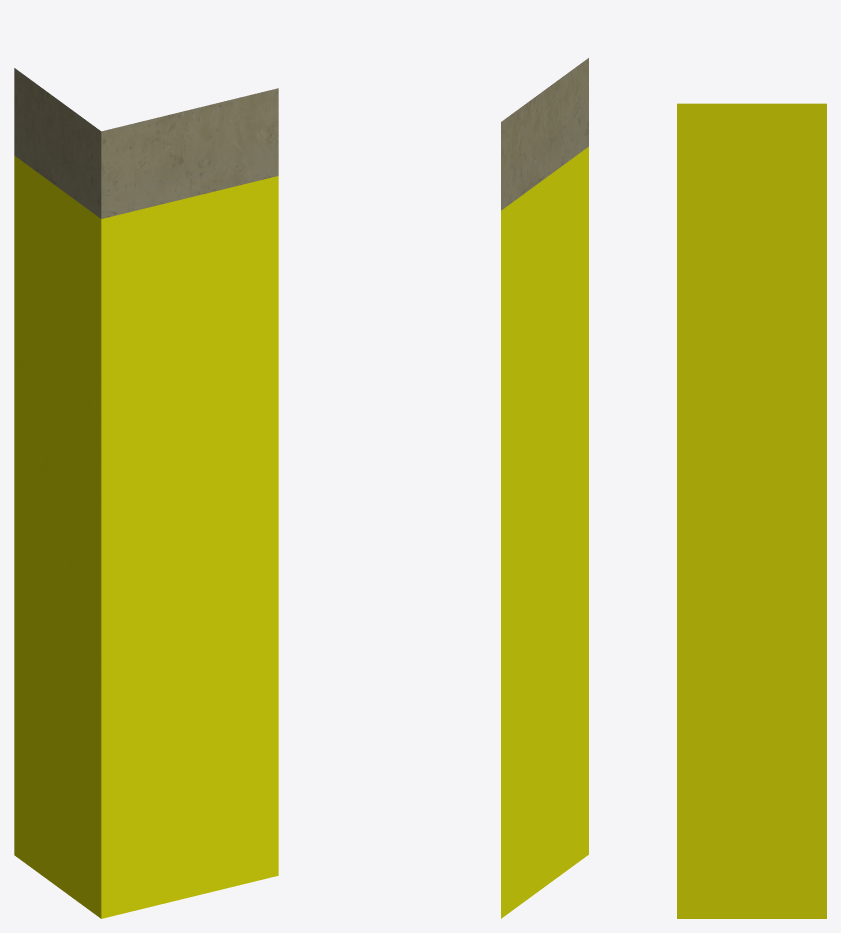
Rendered from brick-toptrim-90angle-r.glb.
The picture shows the model from 3 angles, left to right: view 1: azimuth 30°, elevation 25°; view 2: azimuth 150°, elevation 25°; view 3: azimuth 270°, elevation 25°; orthographic projection. The views are drawn at different scales.
Visible parts, largest first — view 1: Brick_TopTrim_90Angle_R; view 2: Brick_TopTrim_90Angle_R; view 3: Brick_TopTrim_90Angle_R.
Part boxes in pixels (x1,y1,x2,y2): Brick_TopTrim_90Angle_R: [14, 68, 278, 918]; Brick_TopTrim_90Angle_R: [501, 58, 588, 918]; Brick_TopTrim_90Angle_R: [677, 103, 826, 918].
Bounding box in the file's own units: 0.7062 × 3 × 0.7.
2 materials, 1 textured.
